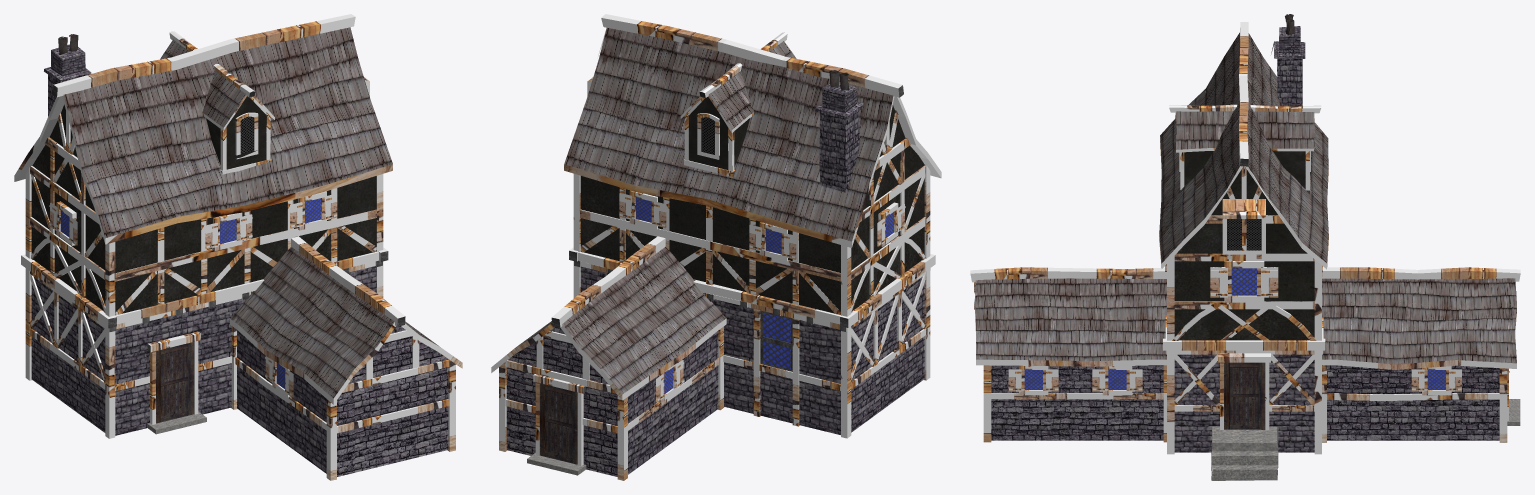
The model's file is casa_medieval_04-lod.glb.
3 renders of one model, left to right at view 1: azimuth 30°, elevation 25°; view 2: azimuth 150°, elevation 25°; view 3: azimuth 270°, elevation 25°, orthographic. The views are drawn at different scales.
Parts seen in each view (by area): view 1: Chimney; view 2: Chimney; view 3: Chimney.
Boxes of the visible parts, x1,y1,x2,y2 form: Chimney: (14,14,462,480); Chimney: (491,14,941,480); Chimney: (970,14,1520,480).
Size of the model in its own units: 10.13 by 9.79 by 15.09.
13 materials, 13 textured.
